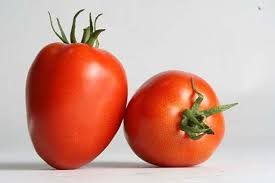tomato: (25, 33, 116, 156), (135, 66, 225, 168)
